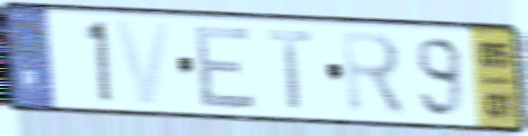1: (80, 17, 116, 105)
9: (413, 34, 468, 119)
E: (192, 24, 261, 111)
R: (338, 27, 410, 120)
T: (265, 28, 316, 113)
V: (110, 17, 174, 109)
